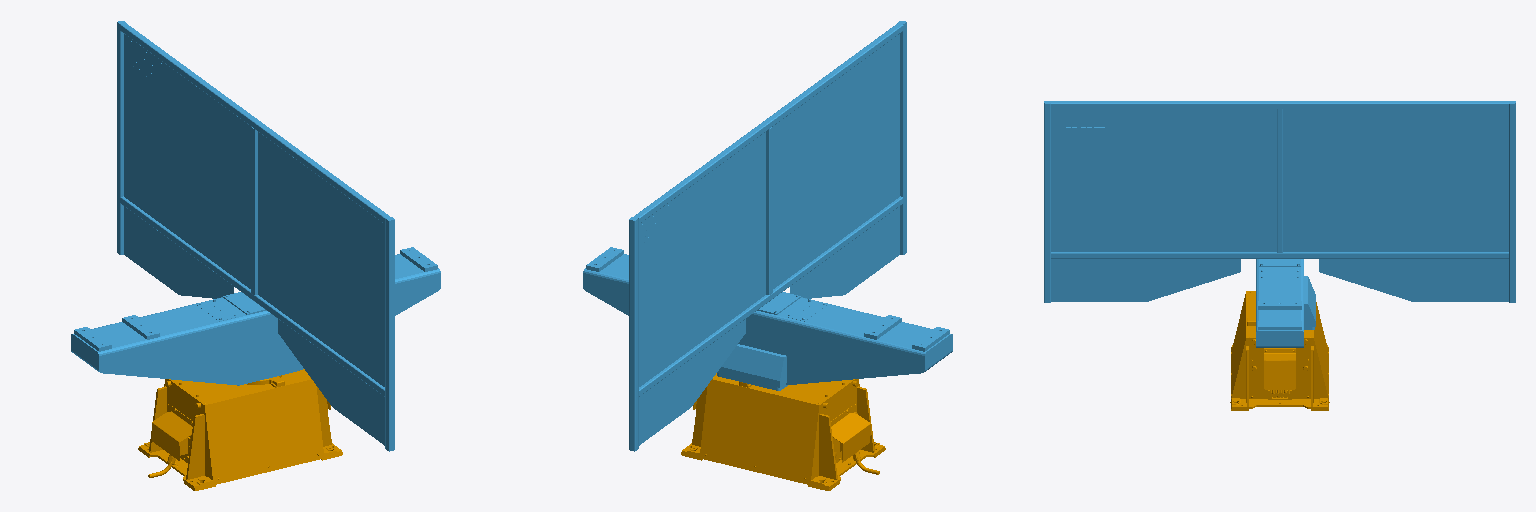
robot.urdf — Irbpc_1000_IRC5_rev02_CAD:
<?xml version="1.0" ?>
<robot name="Irbpc_1000_IRC5_rev02_CAD">

<link name="base_link">
  <inertial>
    <origin xyz="0.9250238746065403 -0.00012294956192347508 0.21441615376360887" rpy="0 0 0"/>
    <mass value="1310.5292686537296"/>
    <inertia ixx="51.101771" iyy="82.104533" izz="91.002161" ixy="-0.063507" iyz="-0.013079" ixz="-0.950218"/>
  </inertial>
  <visual>
    <origin xyz="0 0 0" rpy="0 0 0"/>
    <geometry>
      <mesh filename="meshes/base_link.stl" scale="0.001 0.001 0.001"/>
    </geometry>
  </visual>
  <collision>
    <origin xyz="0 0 0" rpy="0 0 0"/>
    <geometry>
      <mesh filename="meshes/base_link.stl" scale="0.001 0.001 0.001"/>
    </geometry>
  </collision>
</link>

<link name="Irbpc_1000_IRC5_rev02_Arm1000C_CAD_1">
  <inertial>
    <origin xyz="-8.440137477805365e-11 0.003669945663484575 0.30039075717668395" rpy="0 0 0"/>
    <mass value="1619.5073115051896"/>
    <inertia ixx="264.813381" iyy="496.861576" izz="552.616166" ixy="0.000972" iyz="1.35508" ixz="-0.0"/>
  </inertial>
  <visual>
    <origin xyz="-1.013 -0.0 -0.481" rpy="0 0 0"/>
    <geometry>
      <mesh filename="meshes/Irbpc_1000_IRC5_rev02_Arm1000C_CAD_1.stl" scale="0.001 0.001 0.001"/>
    </geometry>
  </visual>
  <collision>
    <origin xyz="-1.013 -0.0 -0.481" rpy="0 0 0"/>
    <geometry>
      <mesh filename="meshes/Irbpc_1000_IRC5_rev02_Arm1000C_CAD_1.stl" scale="0.001 0.001 0.001"/>
    </geometry>
  </collision>
</link>

<joint name="j1" type="continuous">
  <origin xyz="1.013 0.0 0.481" rpy="0 0 0"/>
  <parent link="base_link"/>
  <child link="Irbpc_1000_IRC5_rev02_Arm1000C_CAD_1"/>
  <axis xyz="-0.0 -0.0 -1.0"/>
</joint>

</robot>

--- What the picture shows (computed from the rendered views, not written in the file) ---
The picture shows the robot from 3 angles, left to right: view 1: azimuth 30°, elevation 25°; view 2: azimuth 150°, elevation 25°; view 3: azimuth 270°, elevation 25°; orthographic projection.
Robot: Irbpc_1000_IRC5_rev02_CAD — 2 links, 1 joints (1 continuous); root link base_link; default pose: all joints at 0.
Visible links, largest first — view 1: Irbpc_1000_IRC5_rev02_Arm1000C_CAD_1, base_link; view 2: Irbpc_1000_IRC5_rev02_Arm1000C_CAD_1, base_link; view 3: Irbpc_1000_IRC5_rev02_Arm1000C_CAD_1, base_link.
Link boxes in pixels (<box>): Irbpc_1000_IRC5_rev02_Arm1000C_CAD_1: <box>71,21,440,451</box>; base_link: <box>138,369,342,490</box>; Irbpc_1000_IRC5_rev02_Arm1000C_CAD_1: <box>583,21,952,451</box>; base_link: <box>681,373,885,490</box>; Irbpc_1000_IRC5_rev02_Arm1000C_CAD_1: <box>1044,101,1515,347</box>; base_link: <box>1230,291,1329,410</box>.
Bounding box of the posed robot: 2.12 × 2.93 × 1.96 m (x, y, z).
Meshes: 2 distinct files referenced, 2 mesh visuals loaded (2 binary STL).